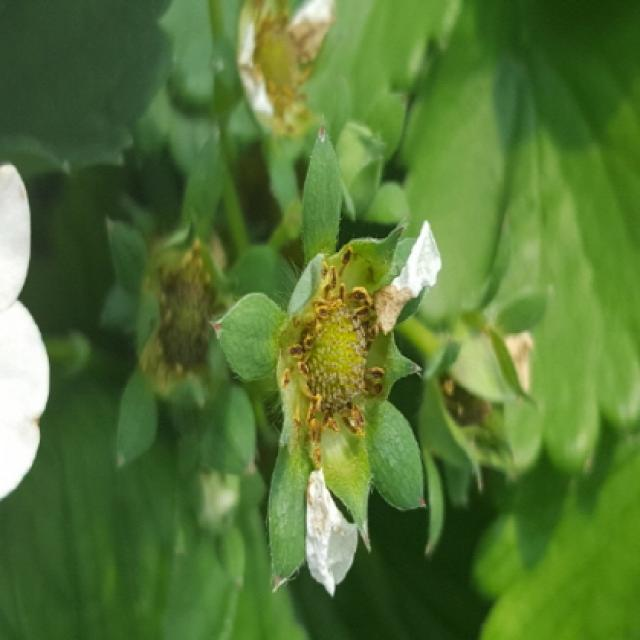Blossom Blight: (274, 244, 389, 470)
